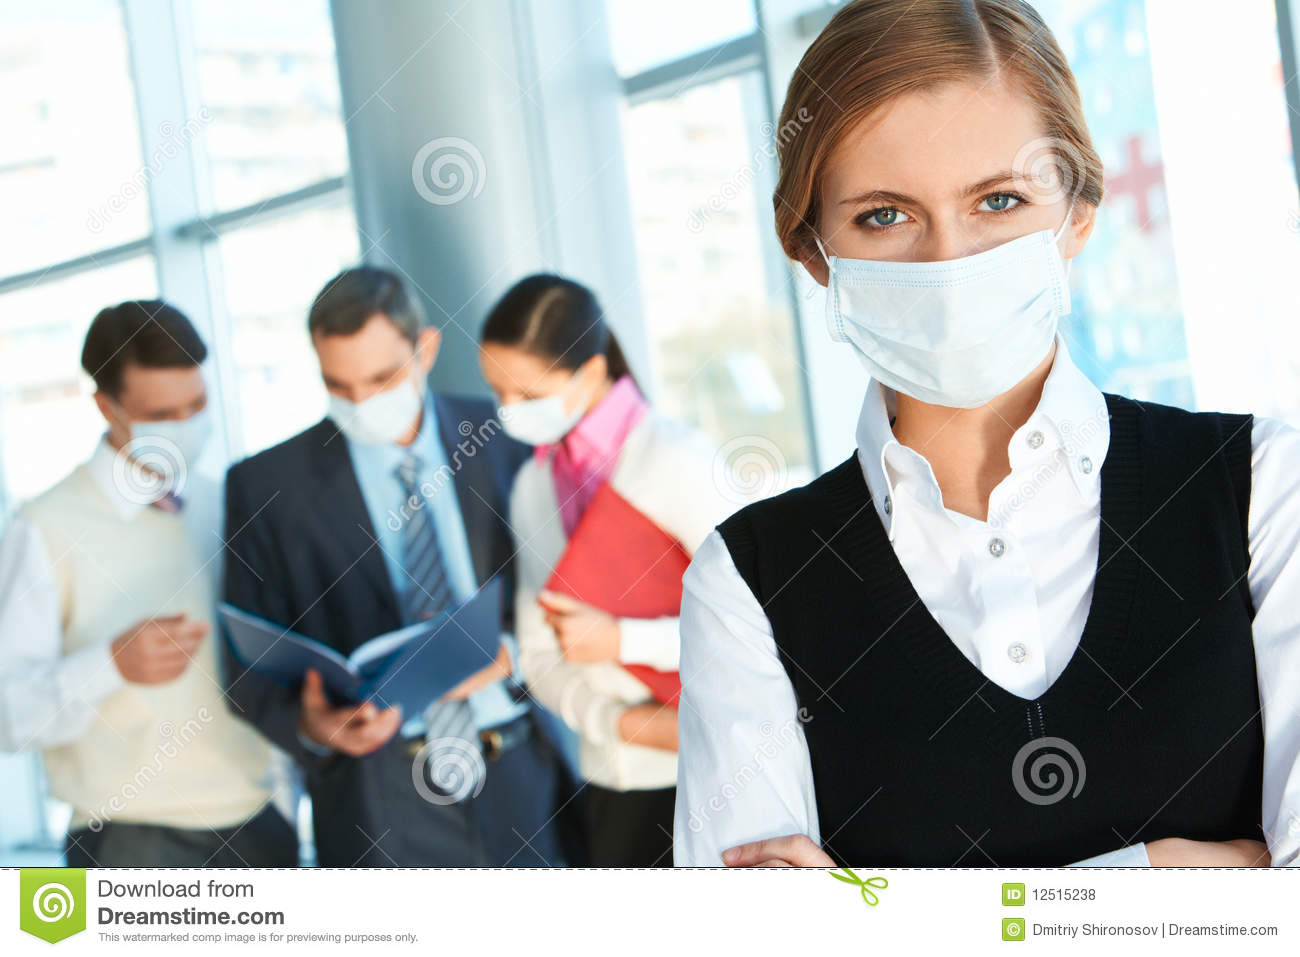mask: (829, 240, 1068, 414)
